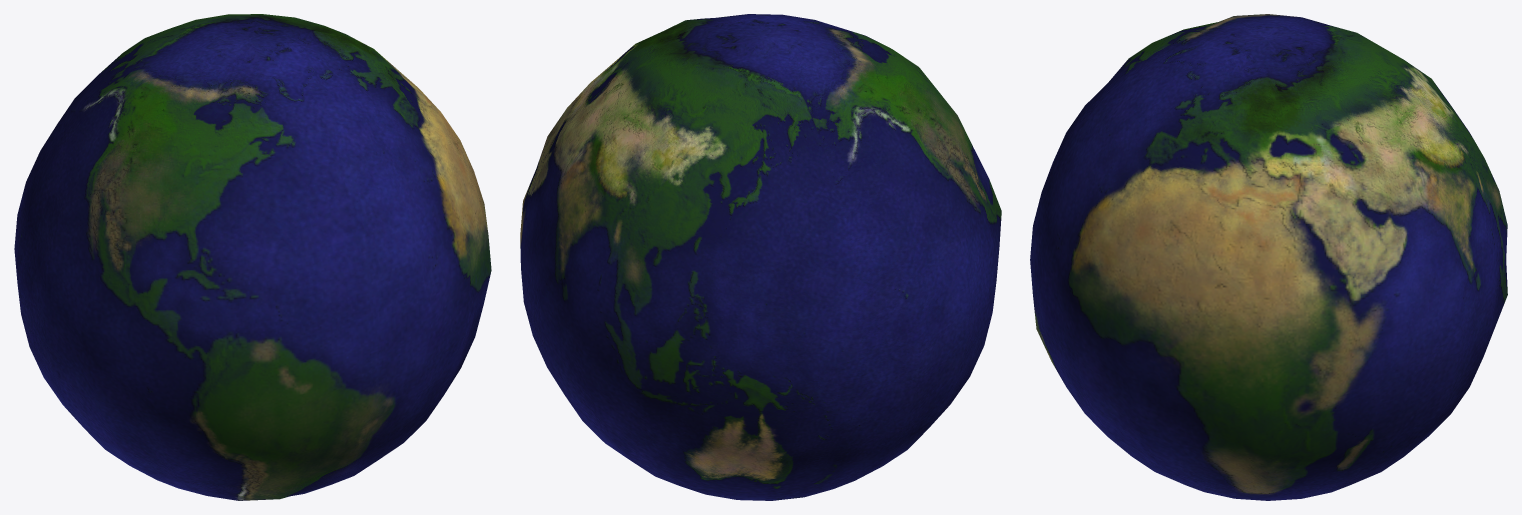
Rendered from earth_final.fbx.
The picture shows the model from 3 angles, left to right: view 1: azimuth 30°, elevation 25°; view 2: azimuth 150°, elevation 25°; view 3: azimuth 270°, elevation 25°; orthographic projection.
Parts seen in each view (by area): view 1: earth04; view 2: earth04; view 3: earth04.
Part boxes in pixels (bbox=[...]): earth04: bbox=[14, 14, 491, 500]; earth04: bbox=[520, 14, 1001, 500]; earth04: bbox=[1030, 14, 1507, 500].
Size of the model in its own units: 13.85 by 13.93 by 13.75.
